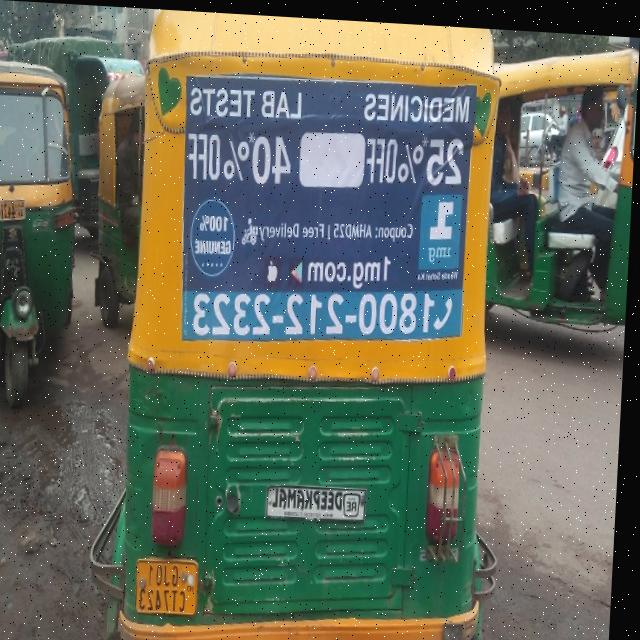plate: (137, 542, 207, 623), (0, 192, 32, 227)
